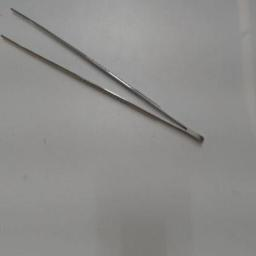DeBakey Dissector: (2, 2, 216, 154)
